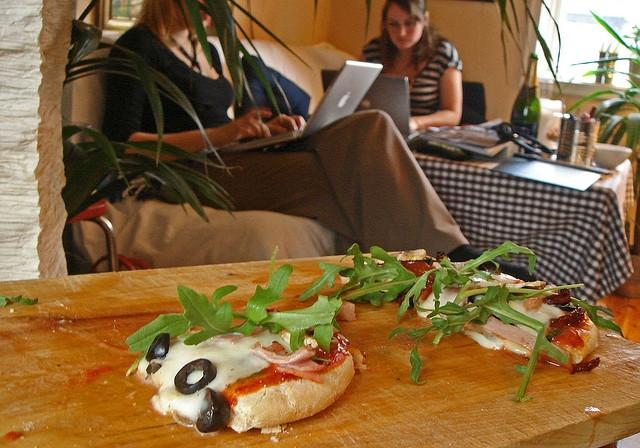apple: (338, 90, 352, 107)
